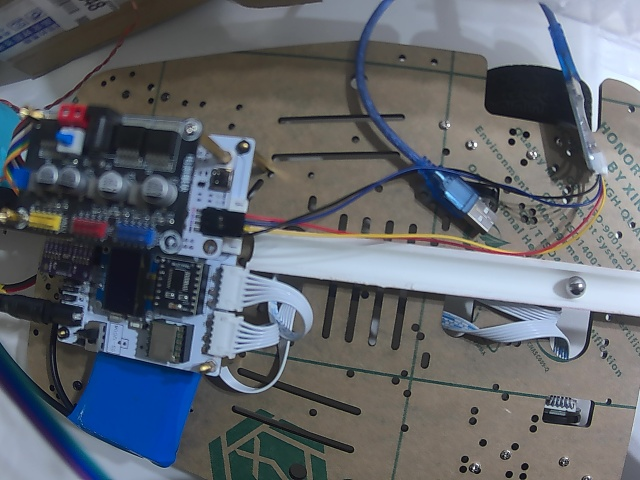steelball: (565, 276, 586, 298)
